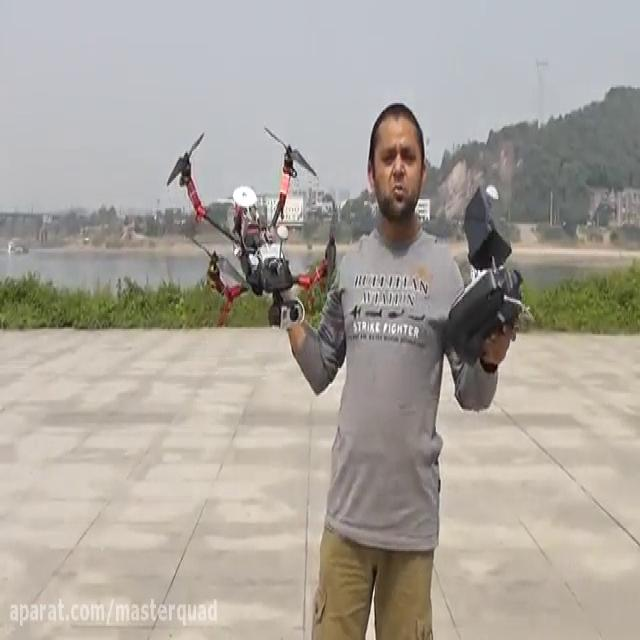drone: (164, 121, 337, 332)
